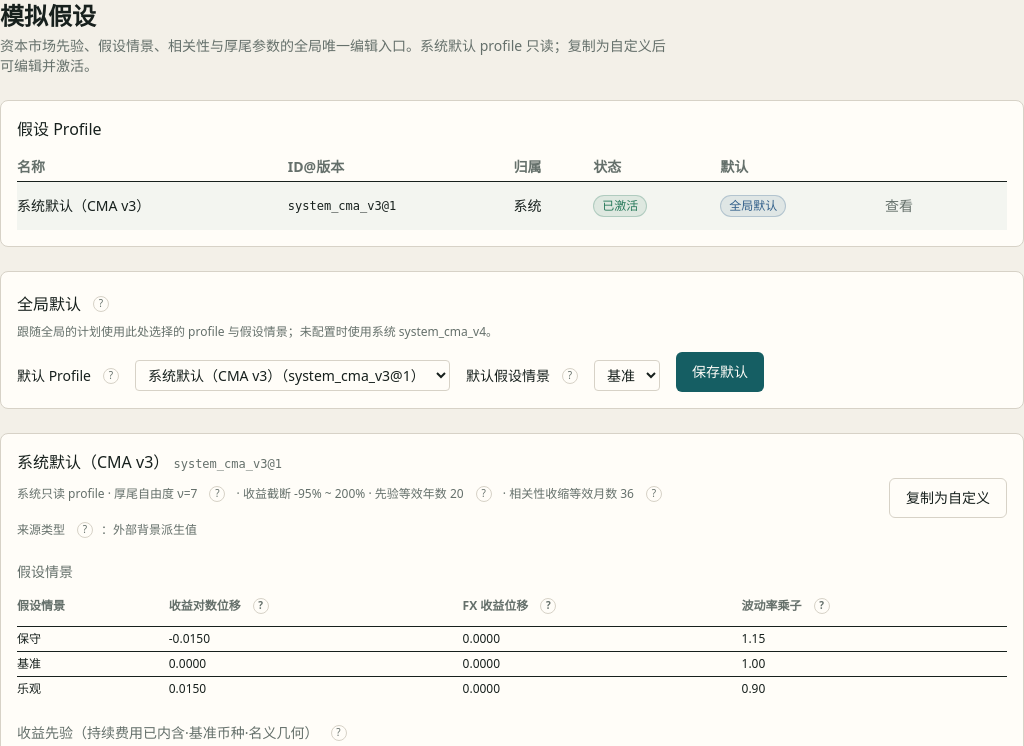
Test: AssumptionsPage › pre-validates a draft via the validate endpoint
Click the button "复制为自定义".
click(948, 498)  # box [889,478,1007,518]
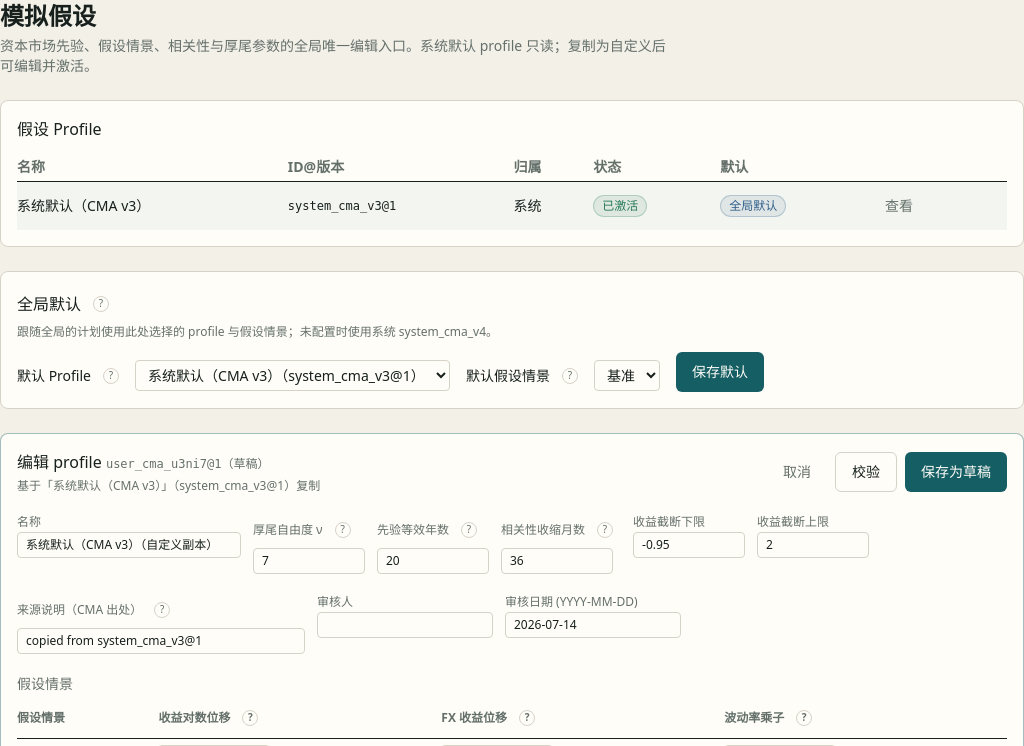
Click the button "校验".
click(866, 472)  # box [835,452,897,492]
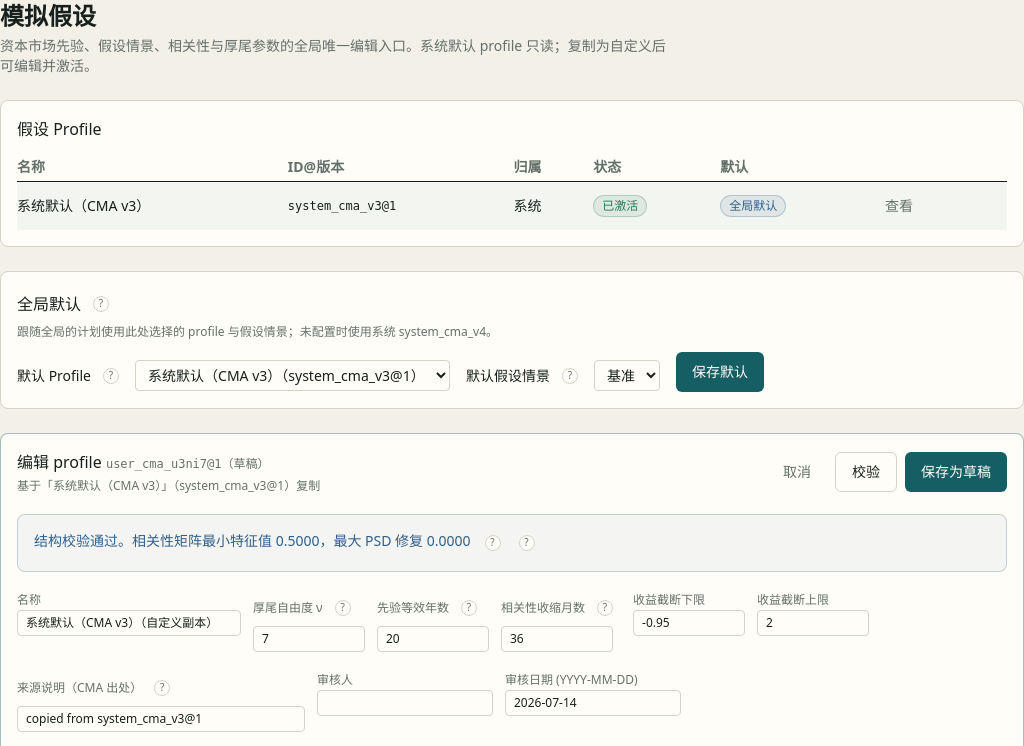
Now the text "结构校验通过。相关性矩阵最小特征值 0.5000，最大 PSD 修复 0.0000 ? ?" is shown, box [34,531,534,551]
